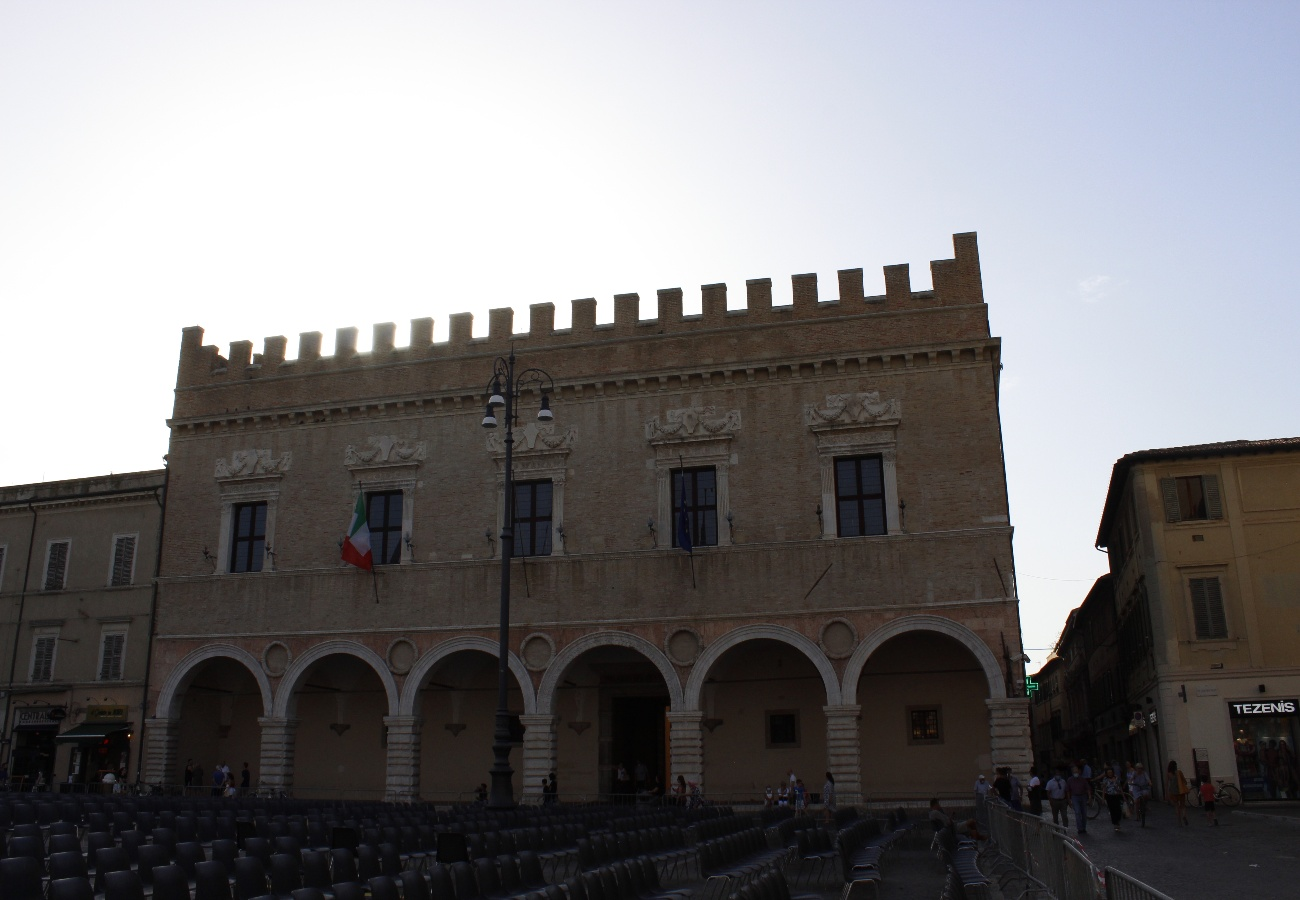Palazzo Ducale: (160, 225, 1031, 813)
